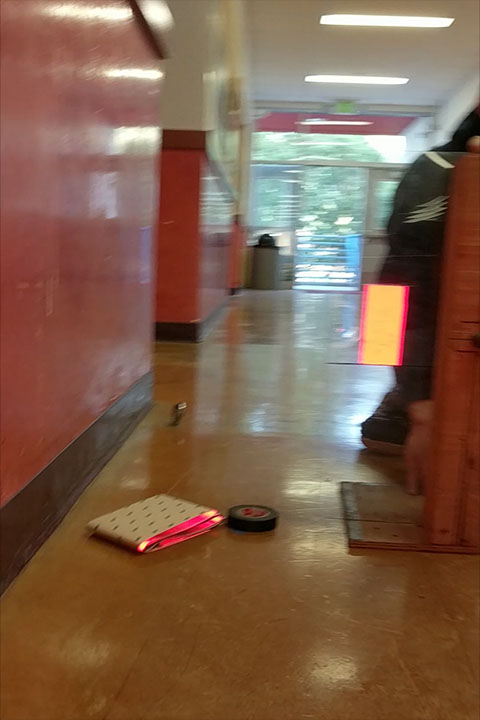gear: (359, 285, 406, 365)
